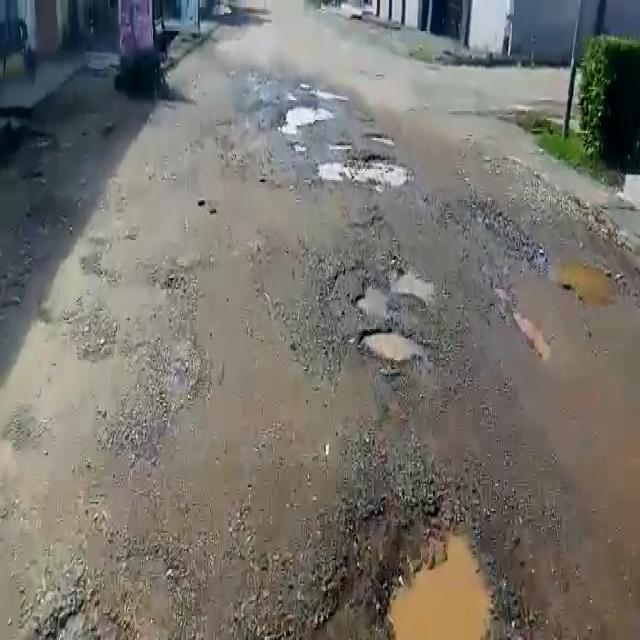pothole: (386, 517, 500, 640), (353, 263, 432, 316), (551, 259, 621, 307), (323, 148, 409, 186), (360, 324, 422, 365), (277, 101, 330, 129), (313, 86, 350, 102), (365, 130, 398, 143)
